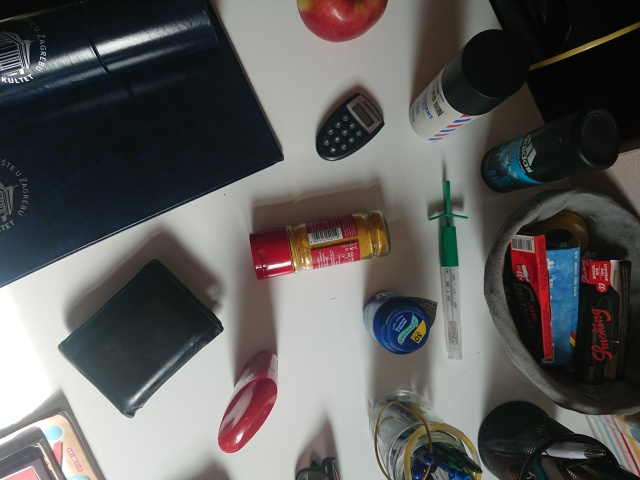Kotanyi Curry Spices Mix 70g: (246, 207, 394, 282)
